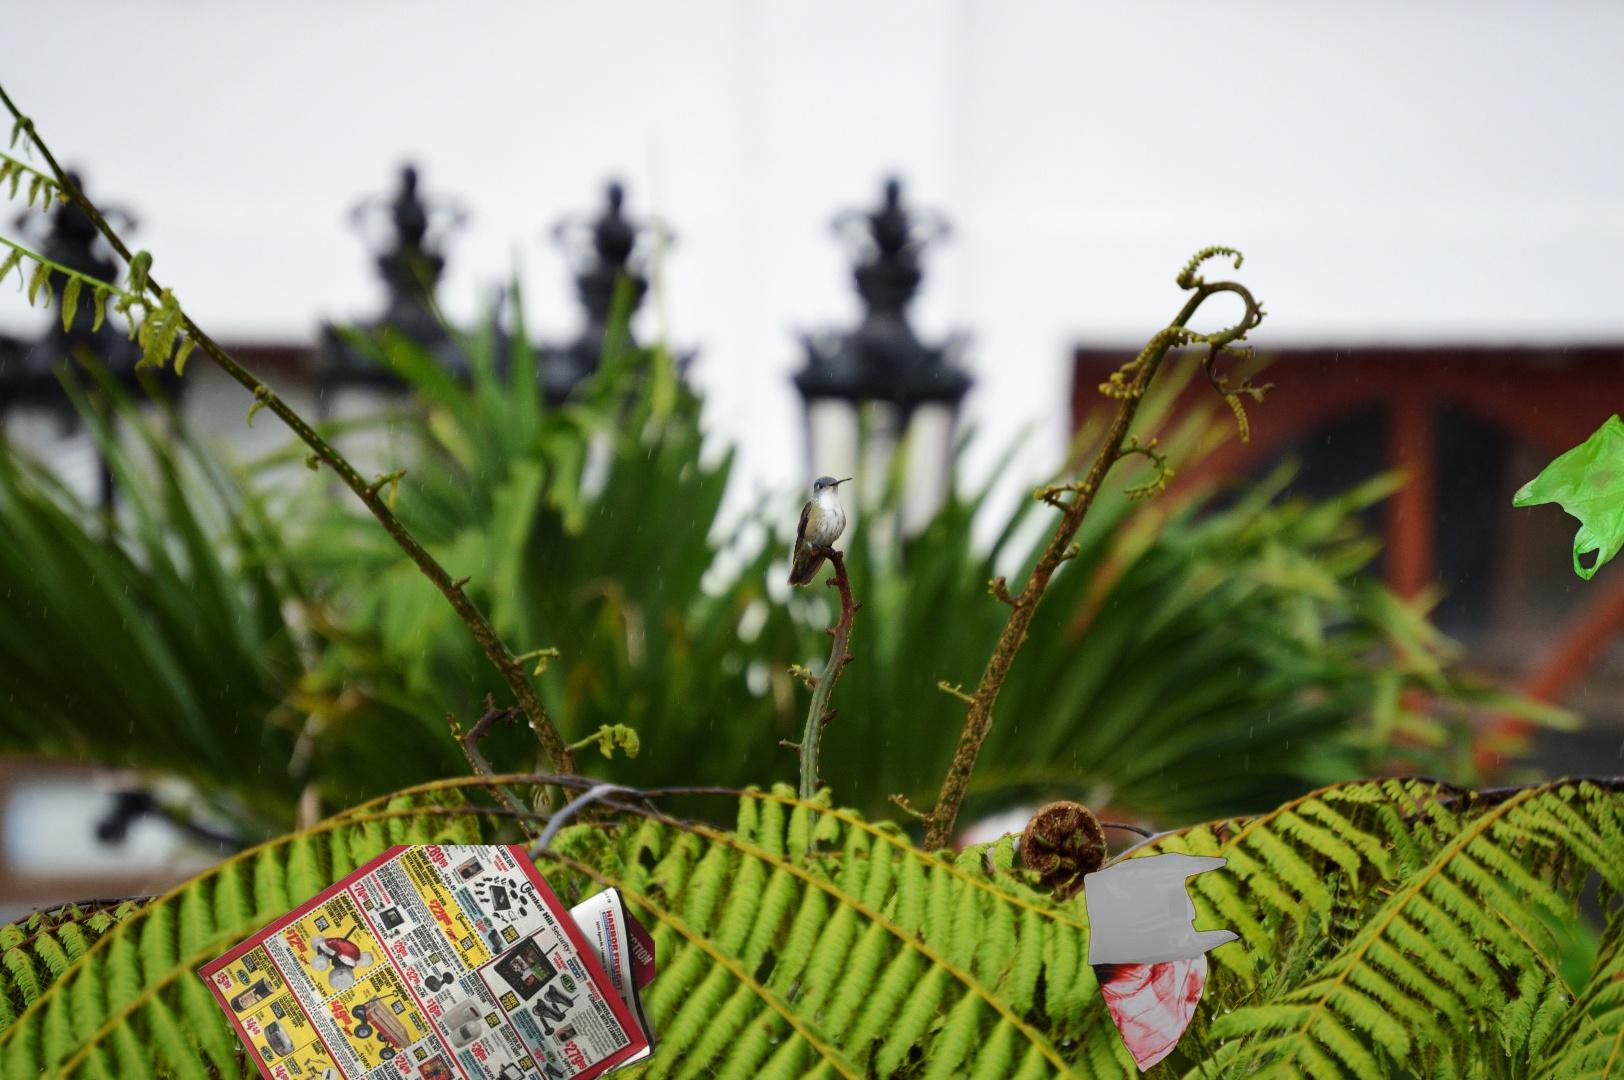paper: (192, 845, 655, 1080)
plastic-bag: (1079, 849, 1243, 1075), (1507, 409, 1624, 583)
